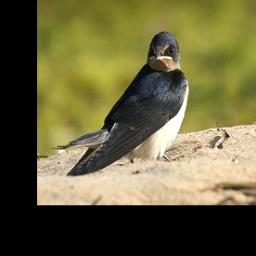Swallow: (51, 30, 189, 175)
